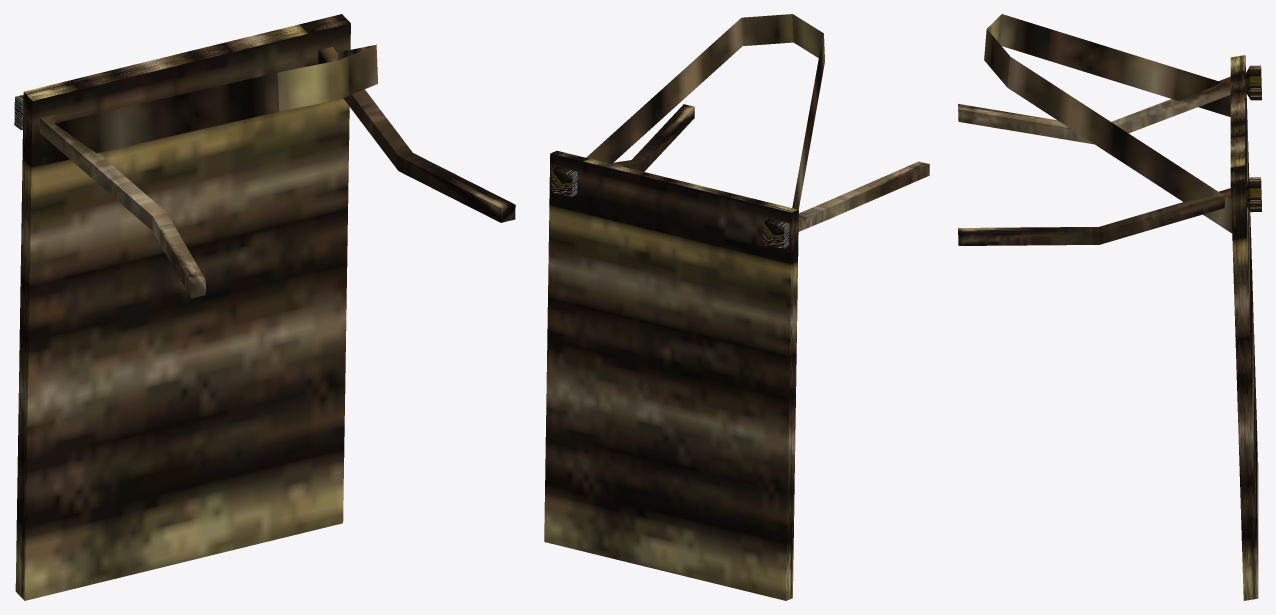
The model's file is mecapal.dae.
3 views of the same model, side by side, from view 1: azimuth 30°, elevation 25°; view 2: azimuth 150°, elevation 25°; view 3: azimuth 270°, elevation 25° (orthographic). The views are drawn at different scales.
Parts seen in each view (by area): view 1: Mecapal; view 2: Mecapal; view 3: Mecapal.
Part boxes in pixels (<box>): Mecapal: <box>14,14,515,600</box>; Mecapal: <box>544,14,929,600</box>; Mecapal: <box>958,14,1261,600</box>.
Bounding box in the file's own units: 0.929 × 0.9141 × 1.68.
